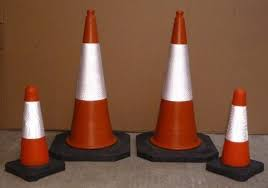cones: (138, 11, 215, 162), (59, 9, 132, 160), (10, 86, 64, 182), (214, 86, 265, 181)
